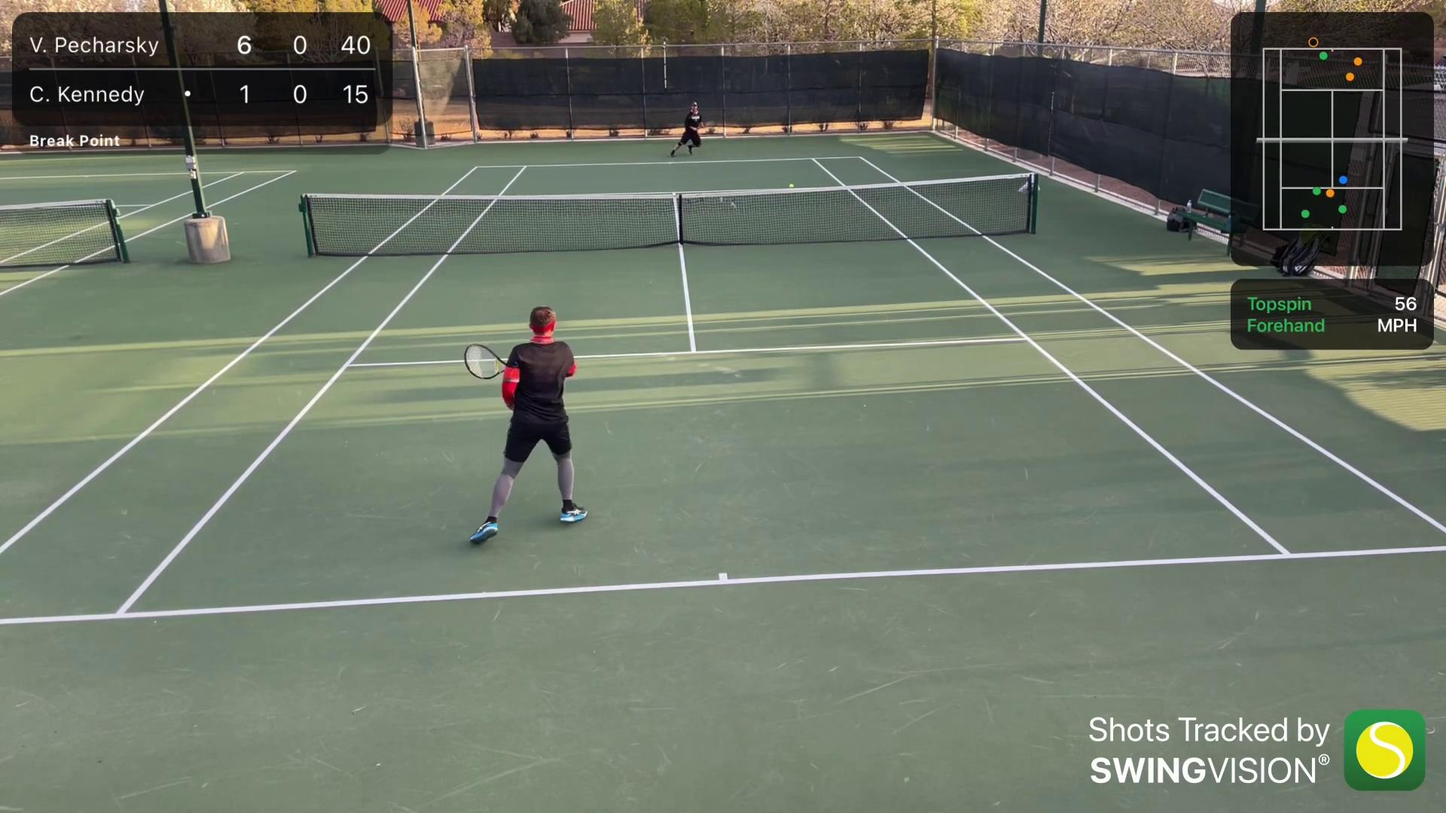ball: (788, 184, 795, 189)
